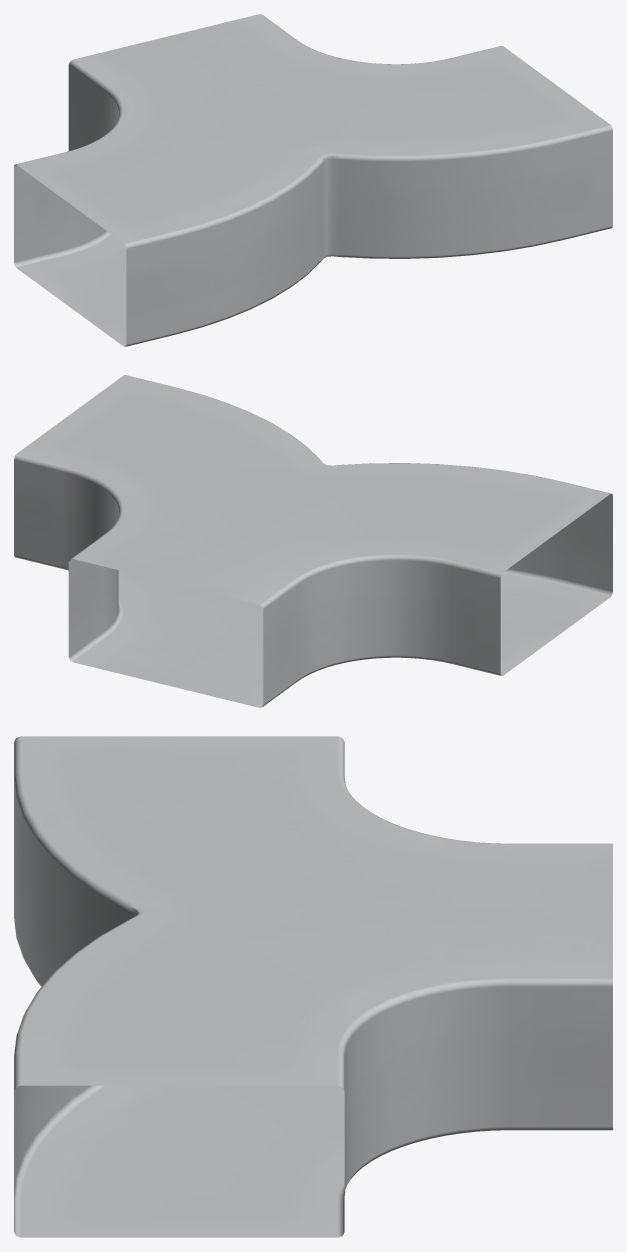
The model's file is fork.gltf.
3 views of the same model, one above another, from view 1: azimuth 30°, elevation 25°; view 2: azimuth 150°, elevation 25°; view 3: azimuth 270°, elevation 25° (orthographic). The views are drawn at different scales.
Visible parts, largest first — view 1: fork; view 2: fork; view 3: fork.
Boxes of the visible parts, <box> form: fork: <box>14,14,612,346</box>; fork: <box>14,375,612,707</box>; fork: <box>14,736,612,1237</box>.
Bounding box in the file's own units: 1.89 × 0.384 × 1.37.
Materials: 1 (1 with a texture image).
